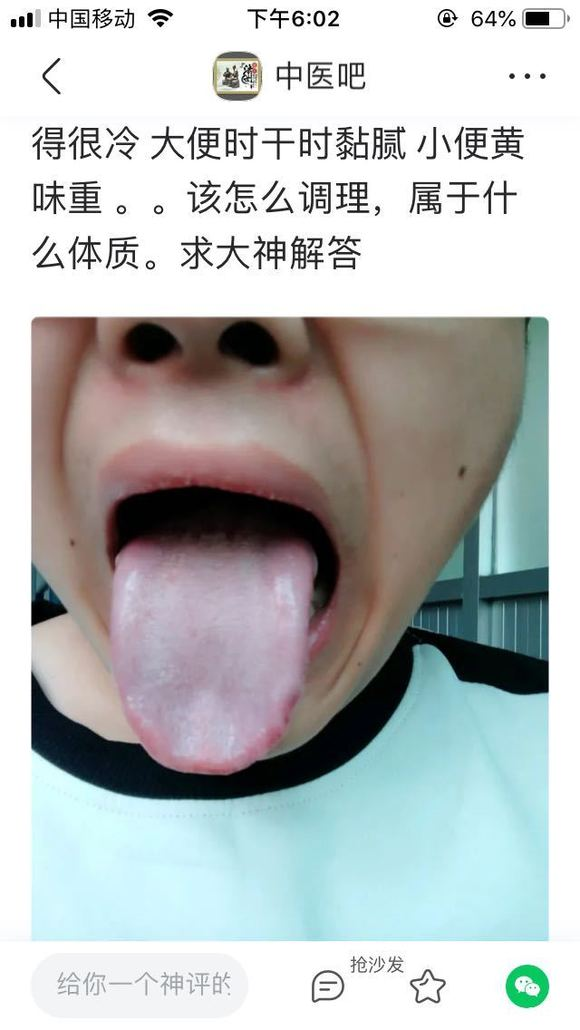baitaishe: (109, 520, 318, 775)
chihenshe: (263, 692, 302, 753)
